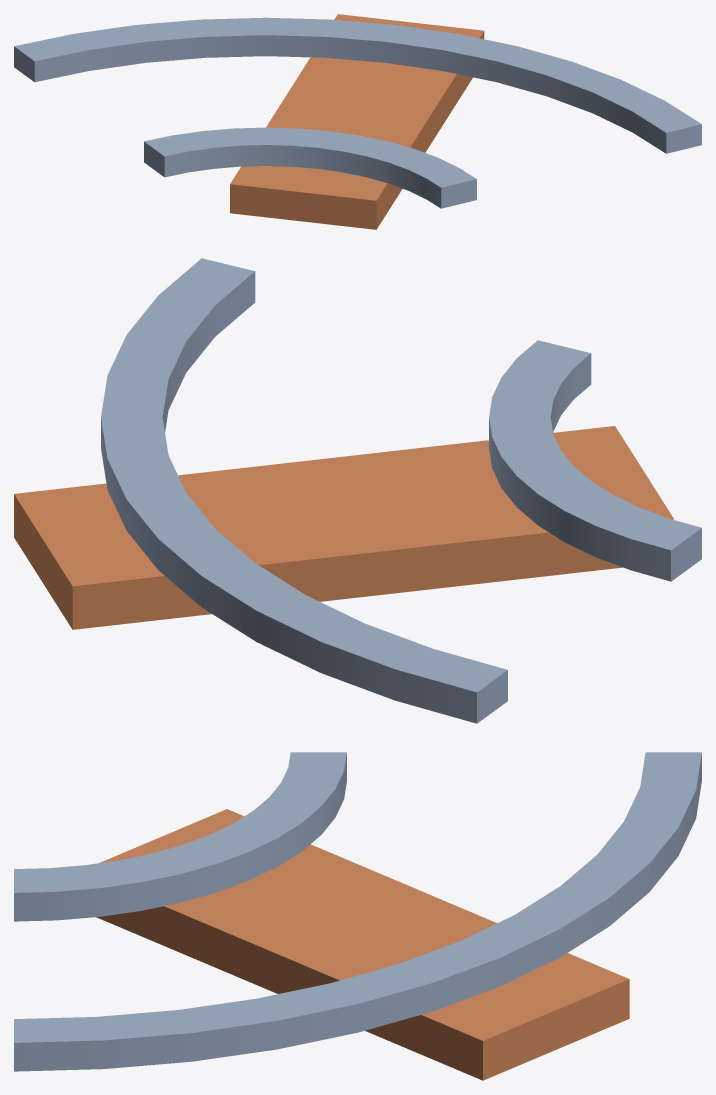
Rendered from trackCorner.fbx.
3 views of the same model, one above another, from view 1: azimuth 30°, elevation 25°; view 2: azimuth 150°, elevation 25°; view 3: azimuth 270°, elevation 25° (orthographic). The views are drawn at different scales.
Parts seen in each view (by area): view 1: trackCorner, Group; view 2: trackCorner, Group; view 3: trackCorner, Group.
Boxes of the visible parts, box(x1,y1,x2,y2) form: trackCorner: box(14, 14, 701, 229); Group: box(144, 127, 476, 187); trackCorner: box(14, 258, 701, 723); Group: box(489, 340, 701, 550); trackCorner: box(14, 752, 701, 1080); Group: box(14, 752, 346, 892).
Size of the model in its own units: 2.2 by 0.241 by 2.2.
